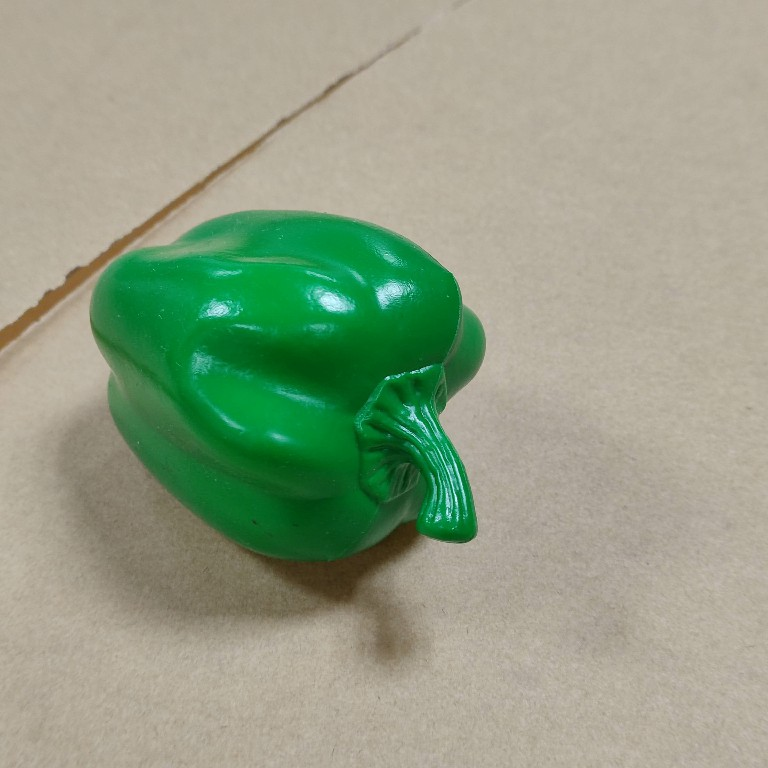fruit_pepper: (81, 205, 498, 568)
